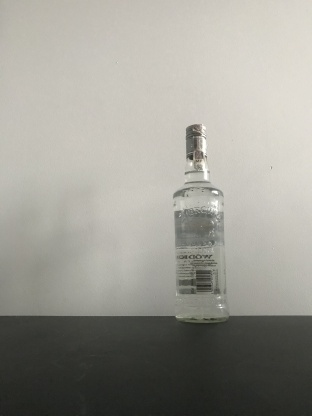nakretka: (184, 121, 208, 161)
